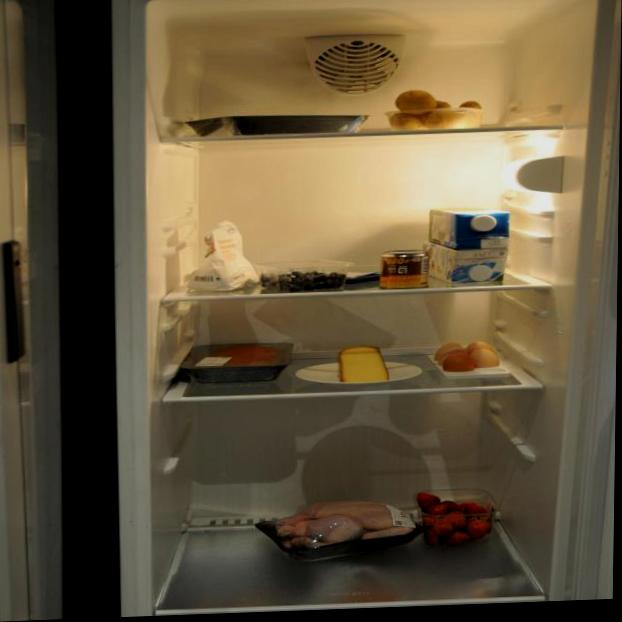cheese: (314, 340, 409, 404)
chicken: (260, 482, 410, 553)
eggs: (424, 333, 512, 387)
meat: (178, 344, 277, 388)
milk: (433, 242, 522, 294), (433, 205, 510, 248)
olive: (272, 259, 351, 302)
potatoes: (387, 83, 495, 137)
tomatoes: (415, 479, 499, 552)
